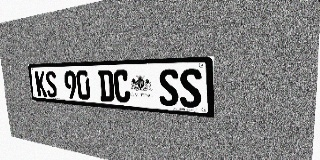0: (76, 70, 91, 100)
9: (64, 70, 78, 99)
C: (113, 70, 131, 103)
D: (98, 70, 115, 102)
K: (35, 71, 47, 97)
S: (179, 68, 202, 108), (158, 69, 179, 107), (45, 71, 58, 98)
